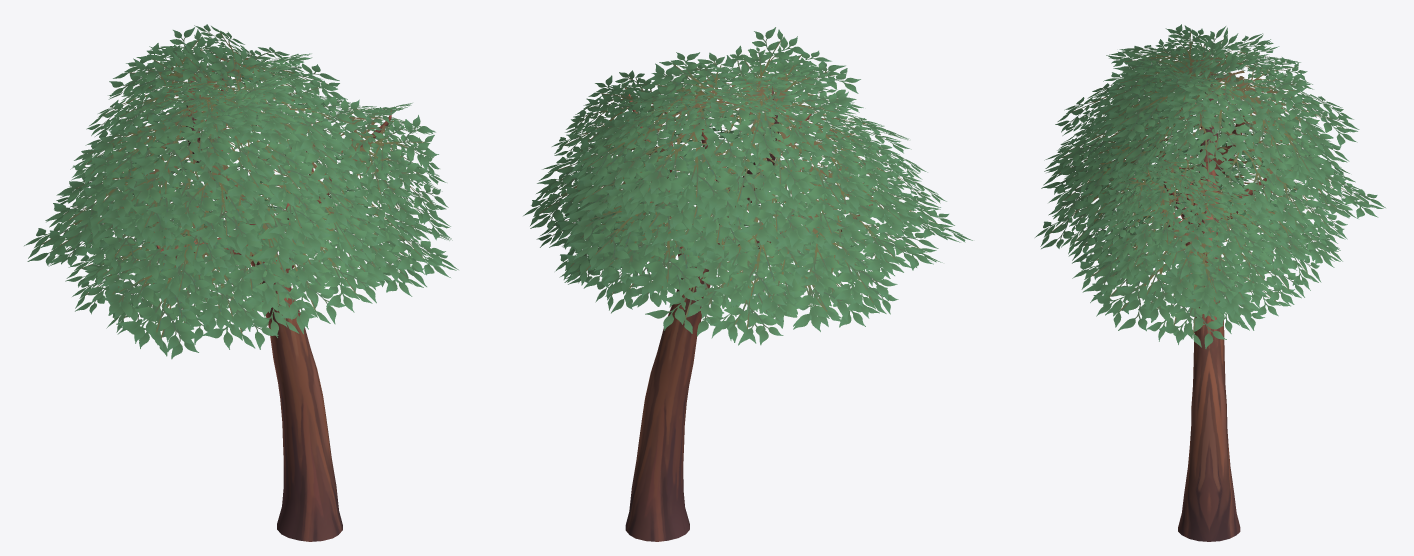
Rendered from Tree_02_R.fbx.
The picture shows the model from 3 angles, left to right: view 1: azimuth 30°, elevation 25°; view 2: azimuth 150°, elevation 25°; view 3: azimuth 270°, elevation 25°; orthographic projection. The views are drawn at different scales.
Parts seen in each view (by area): view 1: Tree_02_leaves, tree_02; view 2: Tree_02_leaves, tree_02; view 3: Tree_02_leaves, tree_02.
Part boxes in pixels (<box>): Tree_02_leaves: <box>24,24,458,359</box>; tree_02: <box>156,76,391,541</box>; Tree_02_leaves: <box>523,27,972,345</box>; tree_02: <box>625,86,872,541</box>; Tree_02_leaves: <box>1035,24,1385,348</box>; tree_02: <box>1128,49,1272,541</box>.
Size of the model in its own units: 447 by 511 by 386.
